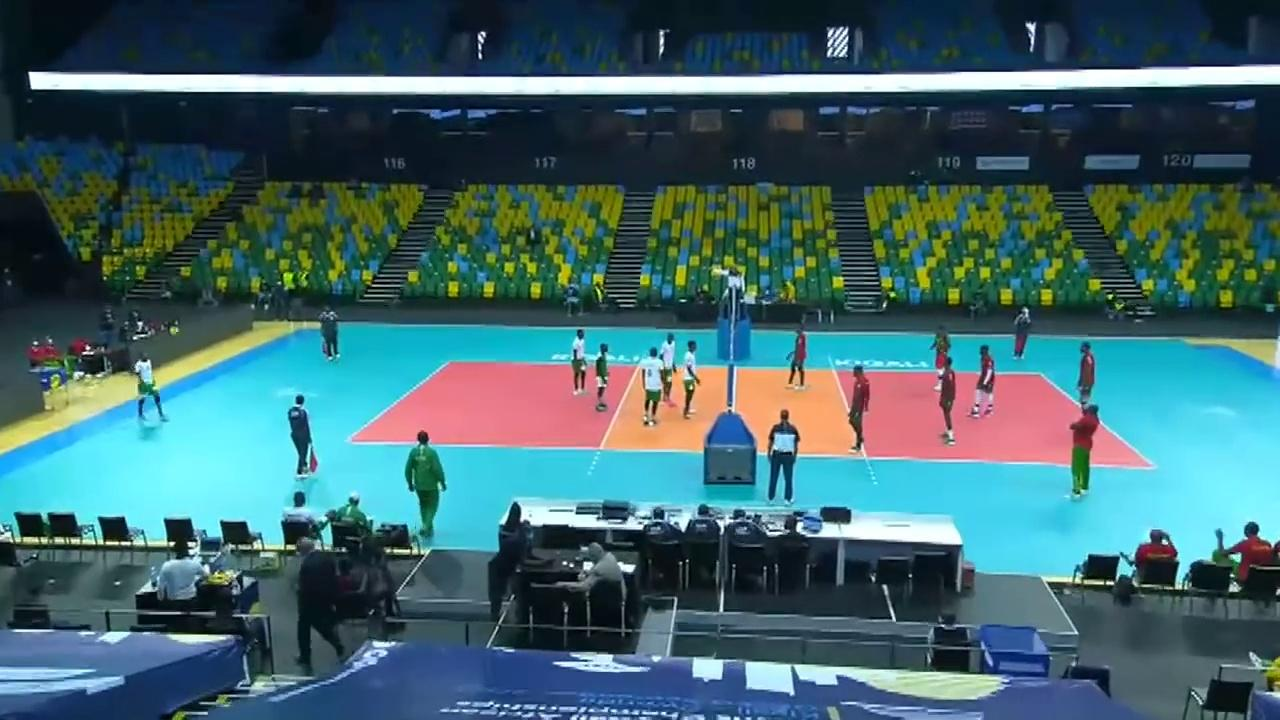player: (132, 350, 166, 432), (842, 366, 869, 453), (637, 345, 665, 428), (934, 356, 958, 443), (678, 344, 700, 420), (973, 348, 996, 418), (592, 339, 613, 407), (788, 322, 809, 389), (1078, 344, 1098, 414), (573, 332, 594, 398), (930, 323, 951, 389), (659, 330, 678, 401)
refree: (769, 410, 802, 504), (289, 392, 318, 479), (721, 261, 745, 314), (320, 306, 341, 362), (1014, 306, 1034, 360)
